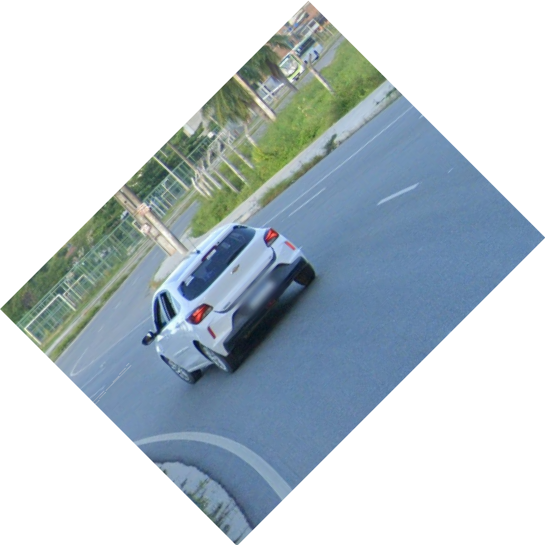car: (139, 218, 322, 400)
